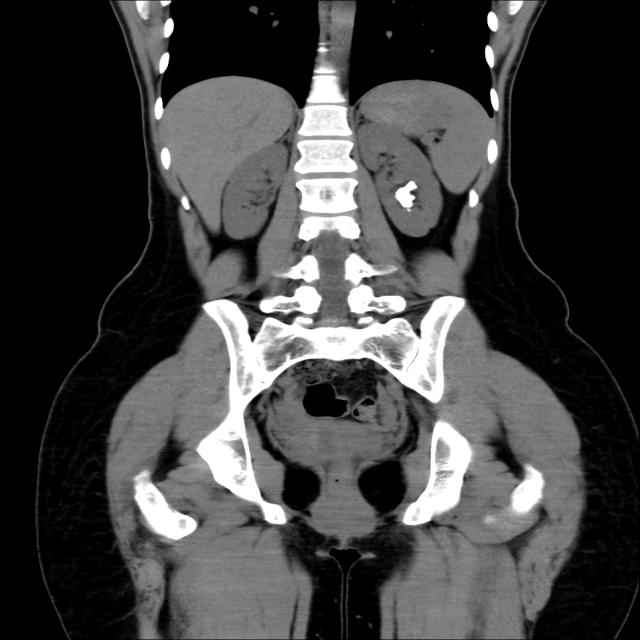kidneystone: (394, 181, 417, 211)
